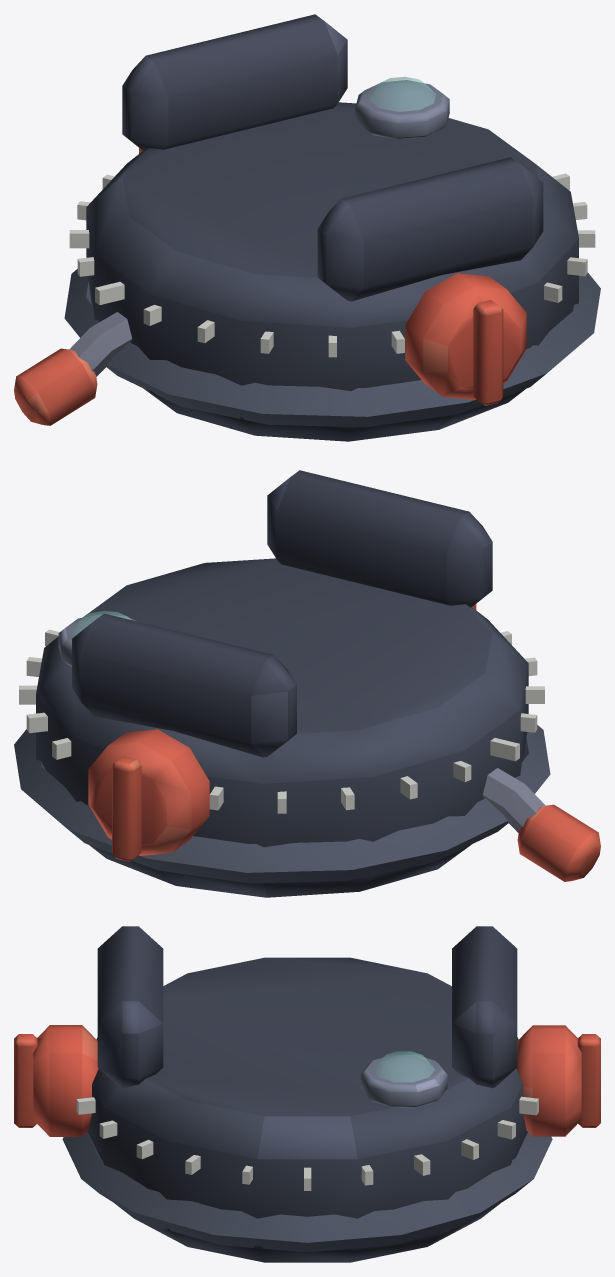
The model's file is SM_Station_FilmCamera_PanHead.fbx.
3 views of the same model, one above another, from view 1: azimuth 30°, elevation 25°; view 2: azimuth 150°, elevation 25°; view 3: azimuth 270°, elevation 25° (orthographic). The views are drawn at different scales.
Visible parts, largest first — view 1: SM_Station_FilmCamera_PanHead; view 2: SM_Station_FilmCamera_PanHead; view 3: SM_Station_FilmCamera_PanHead.
Boxes of the visible parts, x1=… form: SM_Station_FilmCamera_PanHead: x1=14, y1=14, x2=600, y2=441; SM_Station_FilmCamera_PanHead: x1=14, y1=470, x2=600, y2=897; SM_Station_FilmCamera_PanHead: x1=14, y1=926, x2=600, y2=1262.
Size of the model in its own units: 35.64 by 15.17 by 36.46.
